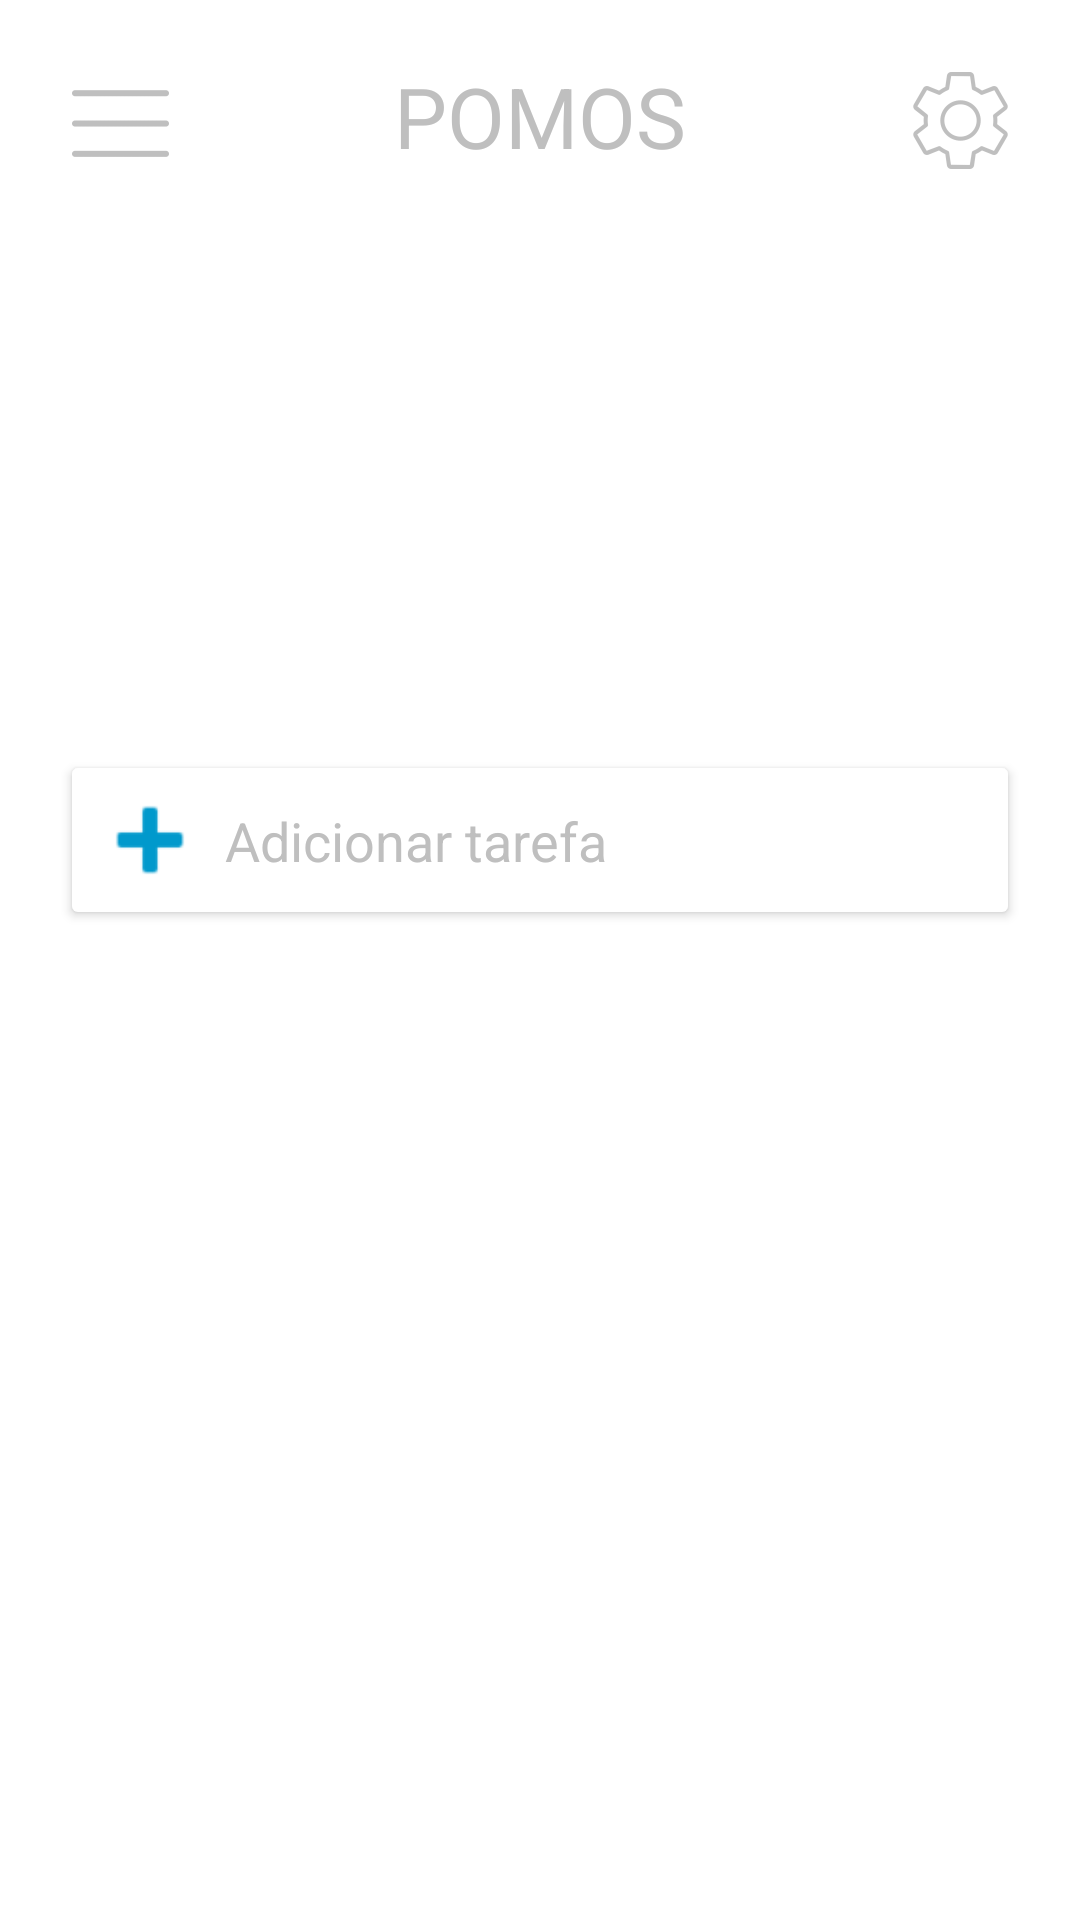

Icon bounding boxes for this 1080w x 1920h phone screenshot, format (x1, y1, x2, y2):
menu: (72, 90, 169, 157)
settings: (913, 72, 1008, 169)
